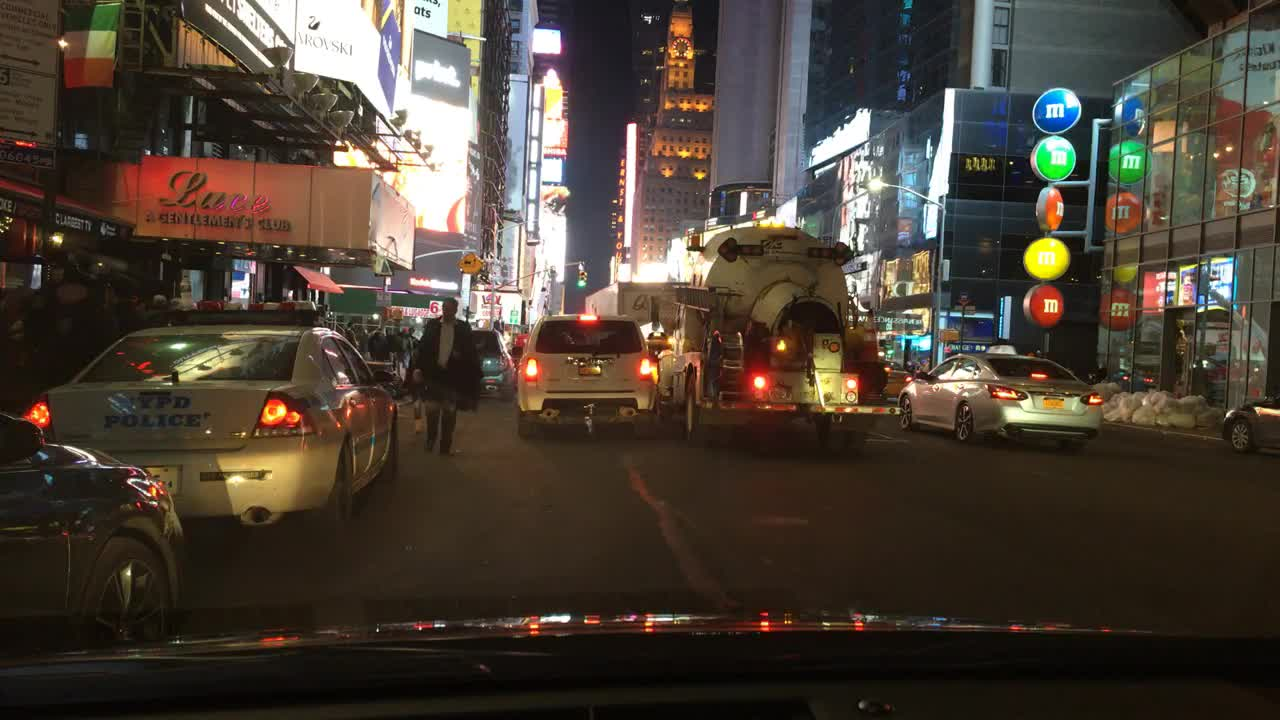car: (17, 296, 402, 532), (1, 404, 190, 661), (893, 345, 1104, 455), (515, 313, 660, 441), (469, 328, 521, 397), (1221, 391, 1279, 452), (883, 360, 912, 397)
person: (409, 297, 481, 460), (386, 330, 405, 376), (367, 328, 389, 361), (405, 325, 424, 354), (343, 320, 360, 351)
traffic light: (577, 271, 585, 287)
traffic sign: (453, 251, 481, 276), (957, 290, 973, 306), (952, 304, 975, 314)
truck: (654, 222, 901, 457), (582, 278, 696, 340)
